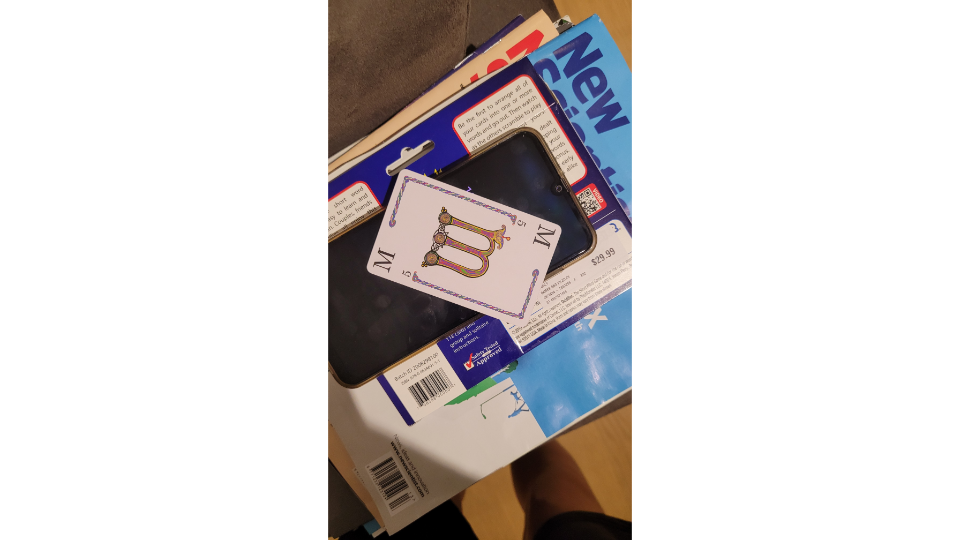M: (365, 166, 564, 328)
